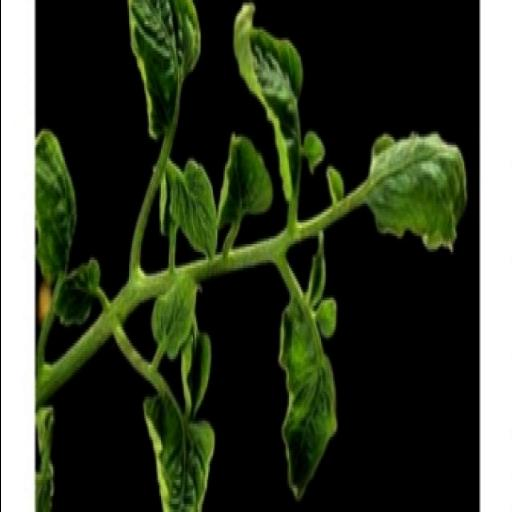disease_tomato: (352, 121, 480, 252), (279, 276, 349, 512), (232, 0, 313, 201)
